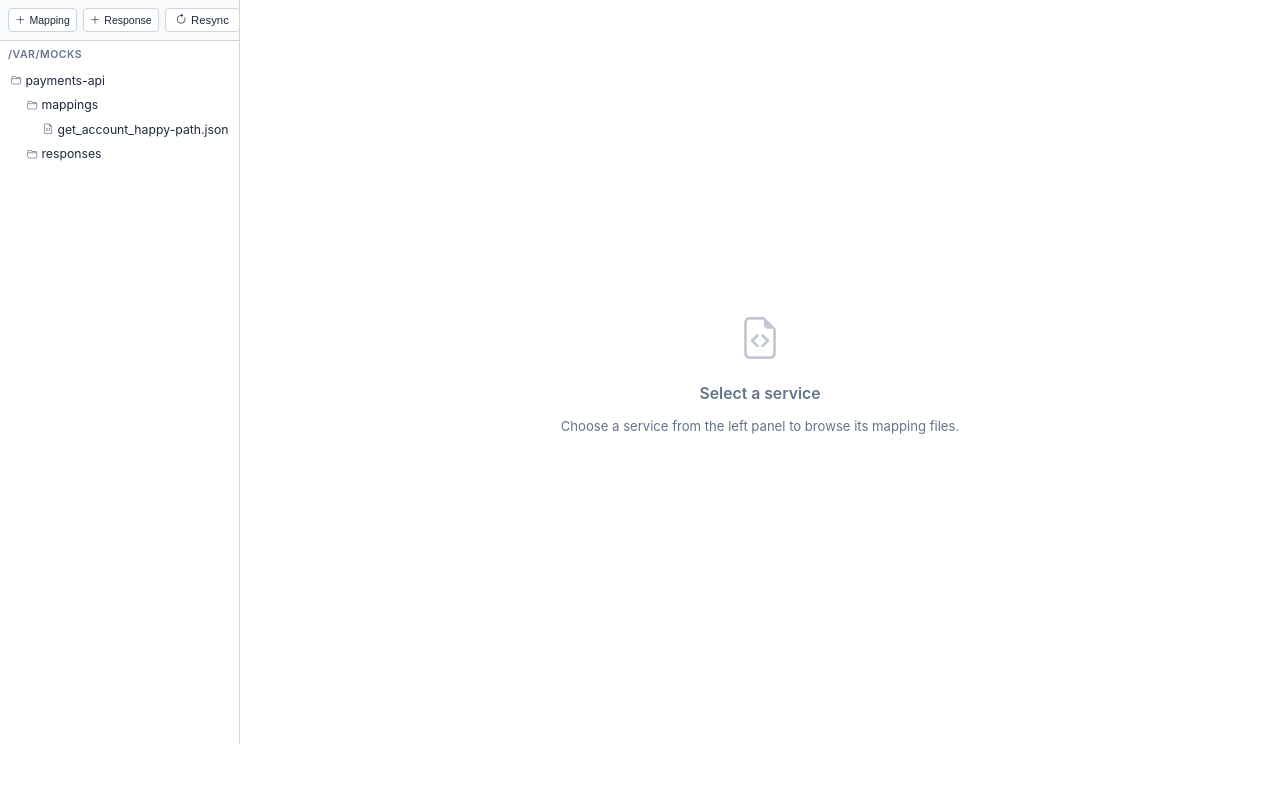
Test: Story 4.2 — MappingsPage: Save / Discard › AC-10: Save issues PUT /api/mappings/{path} with content + lastKnownModified; clears unsaved indicator on 200
This screenshot has width=1280, height=800.
Click the list item with test id "mappings-tree-node-payments-api-get_account_happy-path.json".
click(136, 130)  # box [43,122,229,138]
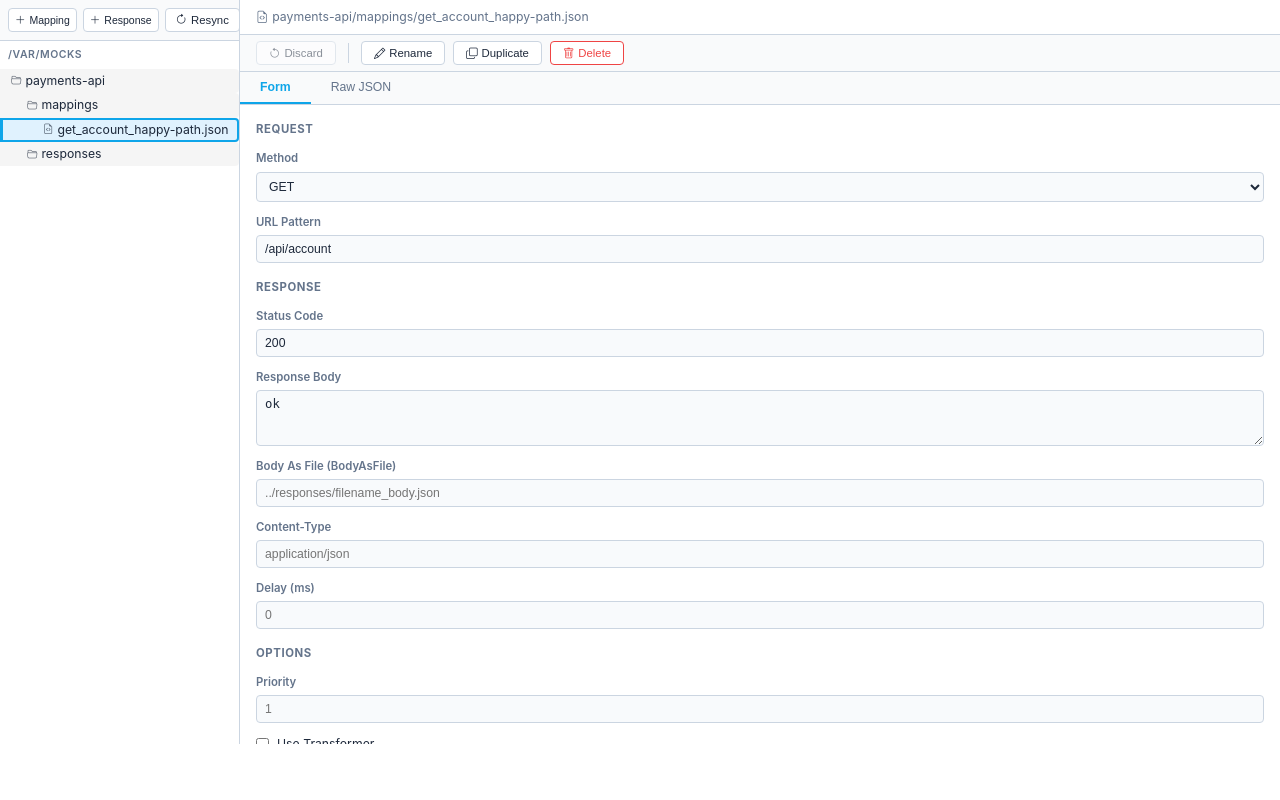
expect the element with test id "mappings-breadcrumb-editor" is shown: met, box [240,0,1279,35]
Click the tab with test id "mappings-tab-form".
click(275, 88)  # box [240,72,311,104]
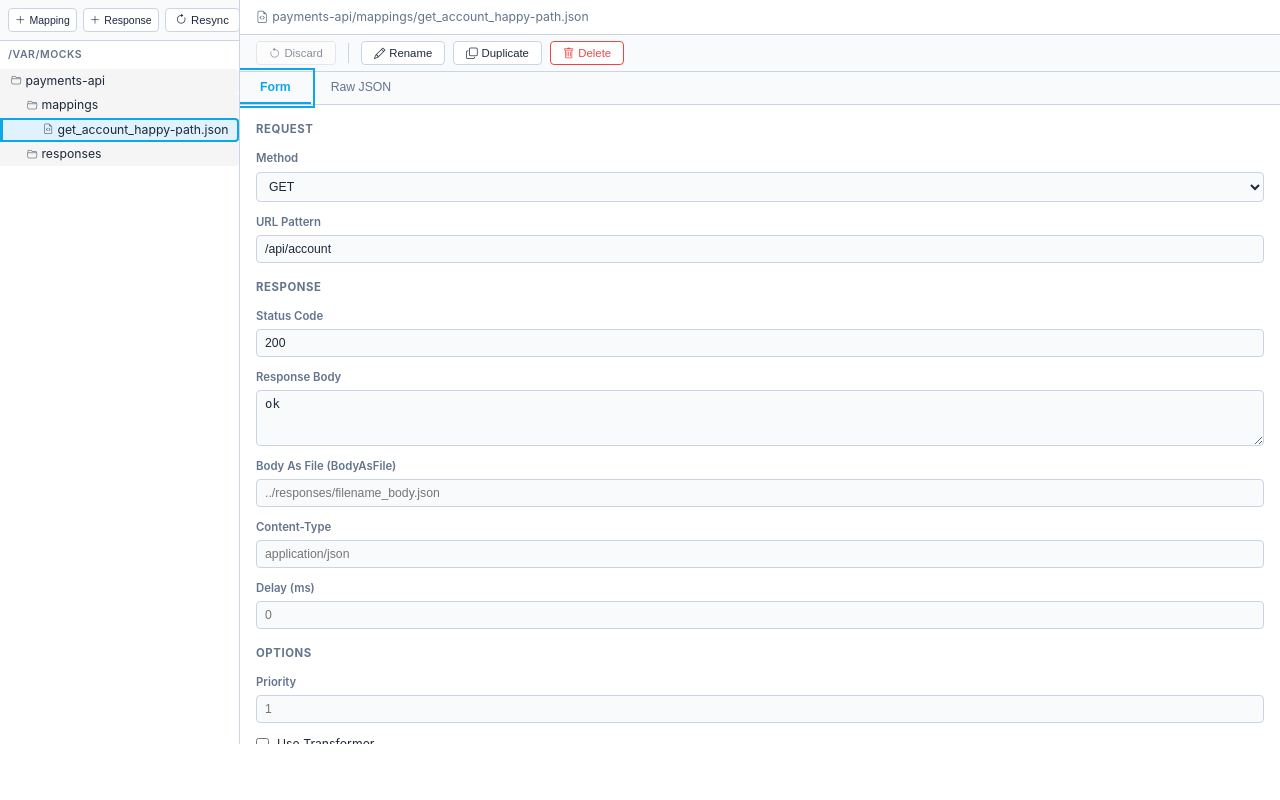
Type "418" into the number field labelled "Status Code".
click(760, 343); type("418")  # box [256,329,1264,357]
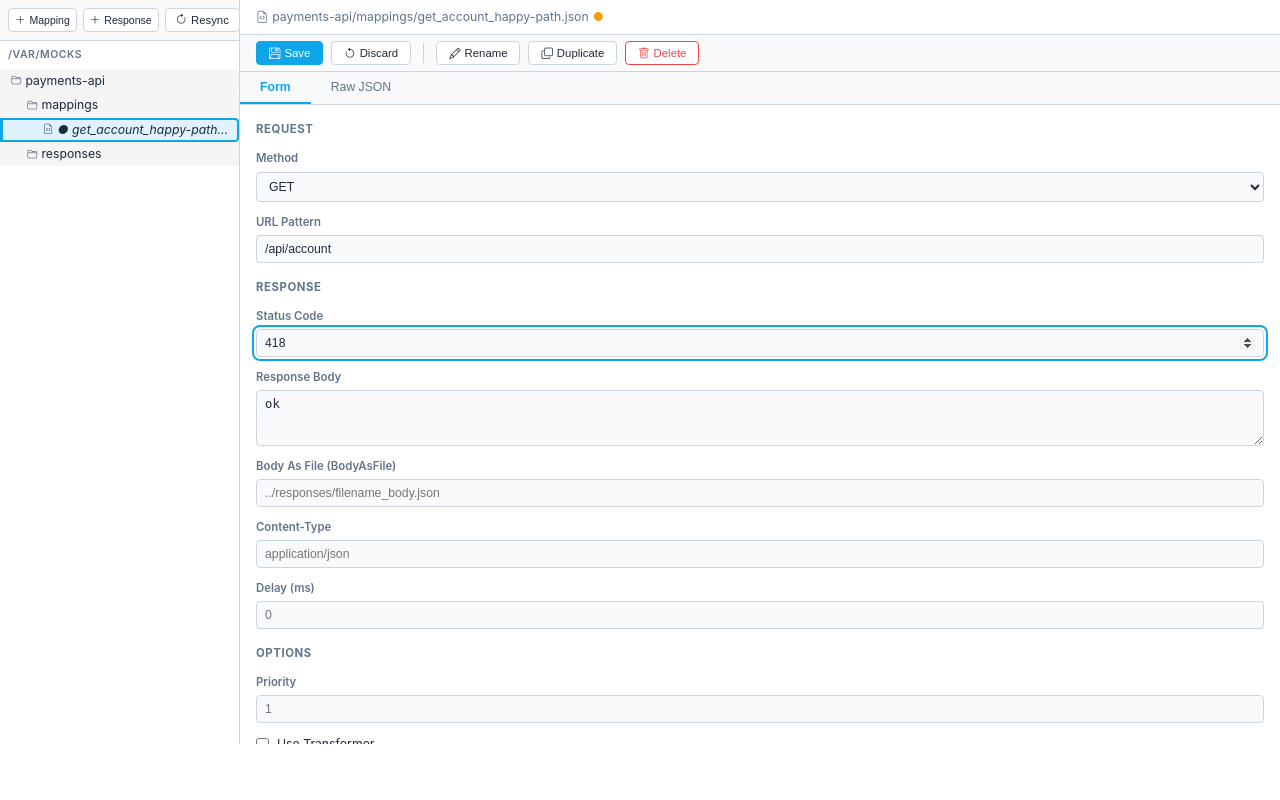
Click the button with test id "mappings-btn-save".
click(290, 53)  # box [256,41,323,65]
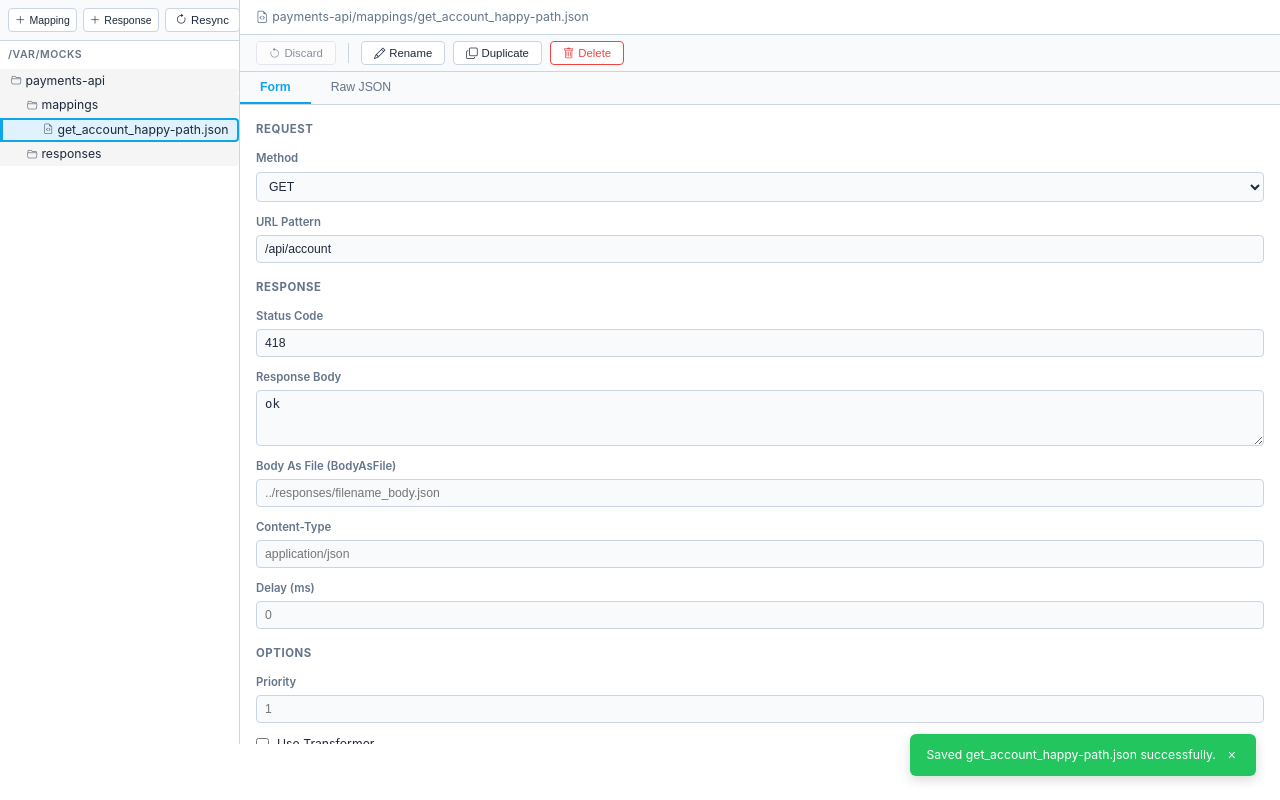
expect the text with test id "mappings-tree-node-payments-api-get_account_happy-path.json" no longer shows "●": met
